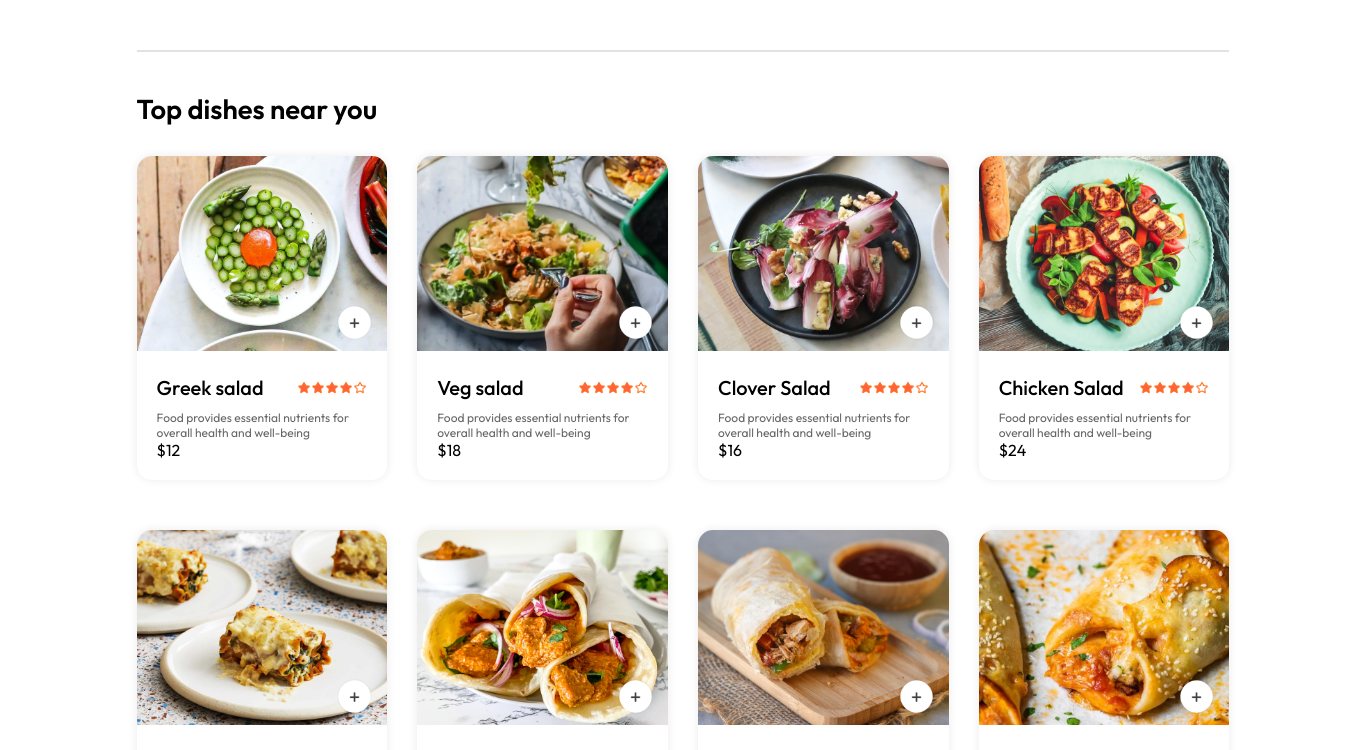
Test case: FoodItem Component Tests › should increase item quantity in cart
(page scrolled)
Click the 1st picture with test id "add-icon1" at (355, 323), box x1=337 y1=305 x2=372 y2=340
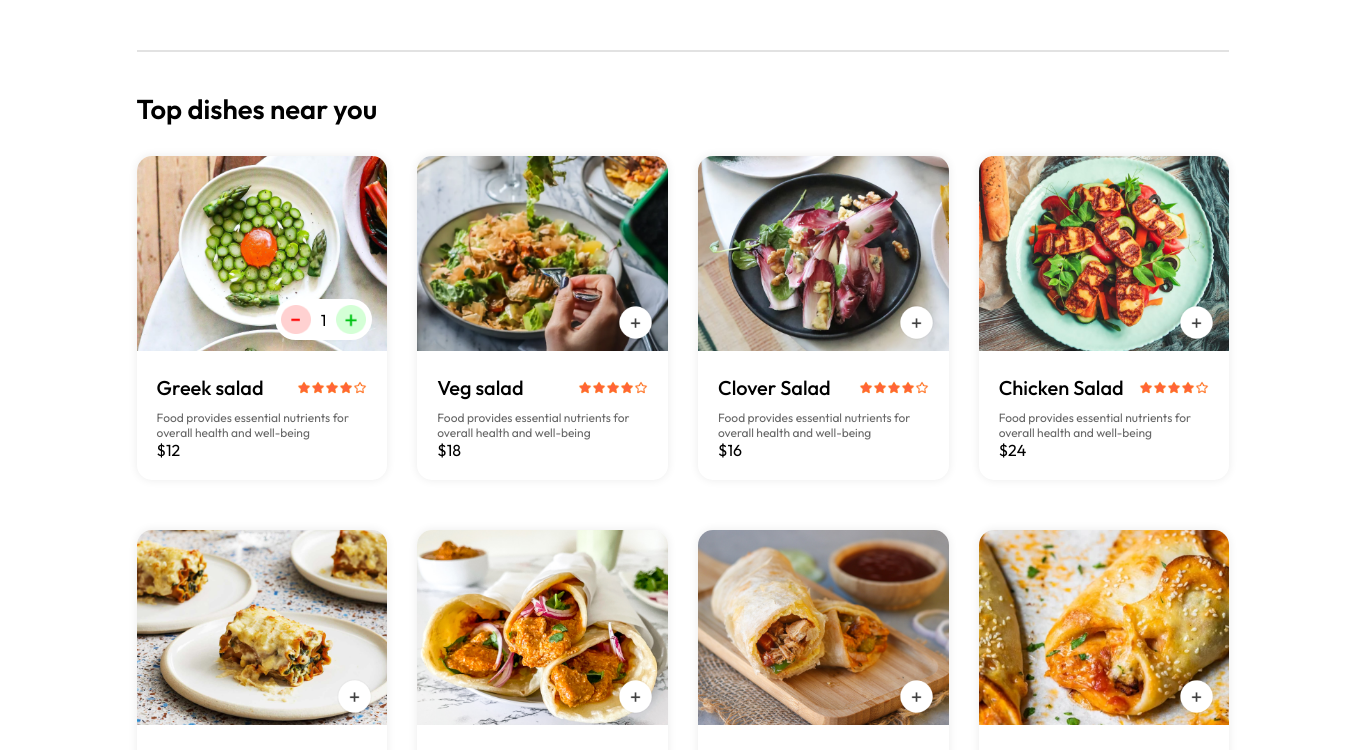
Click the picture with test id ".food-item-counter img[data-testid=\"add-icon2\"]" at (351, 320), box x1=336 y1=305 x2=366 y2=334
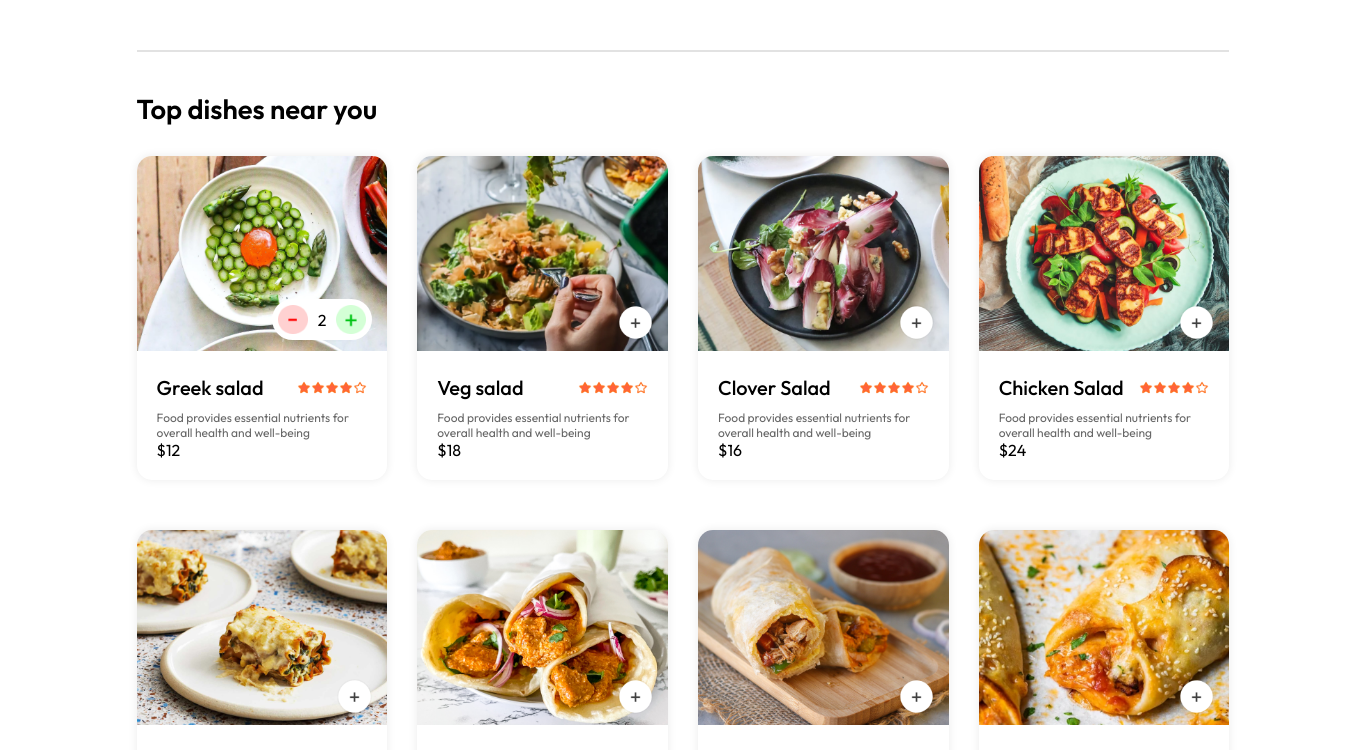
Expected: the text "2" is shown, x1=318 y1=310 x2=326 y2=330
